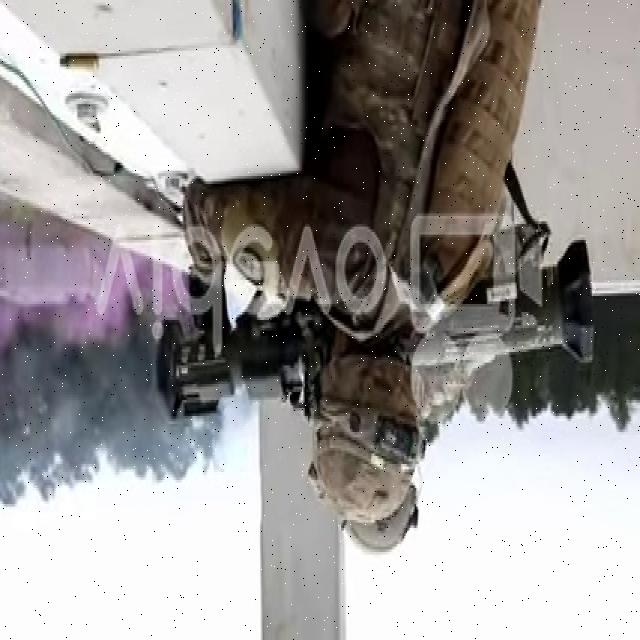bazooka: (151, 228, 601, 435)
